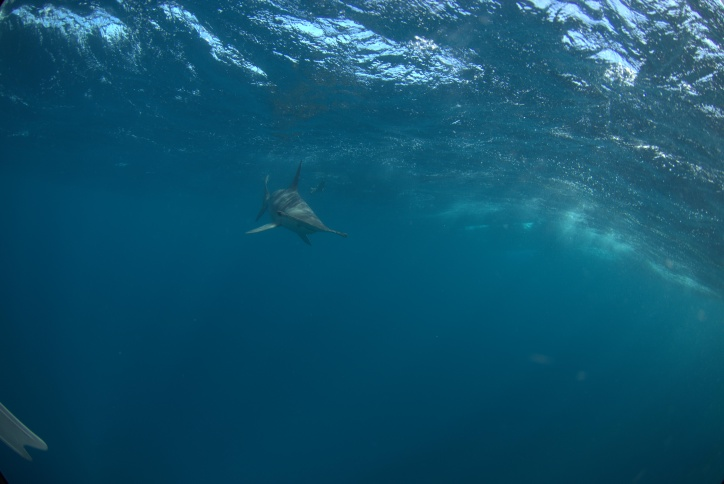Hammer: (194, 142, 361, 271)
